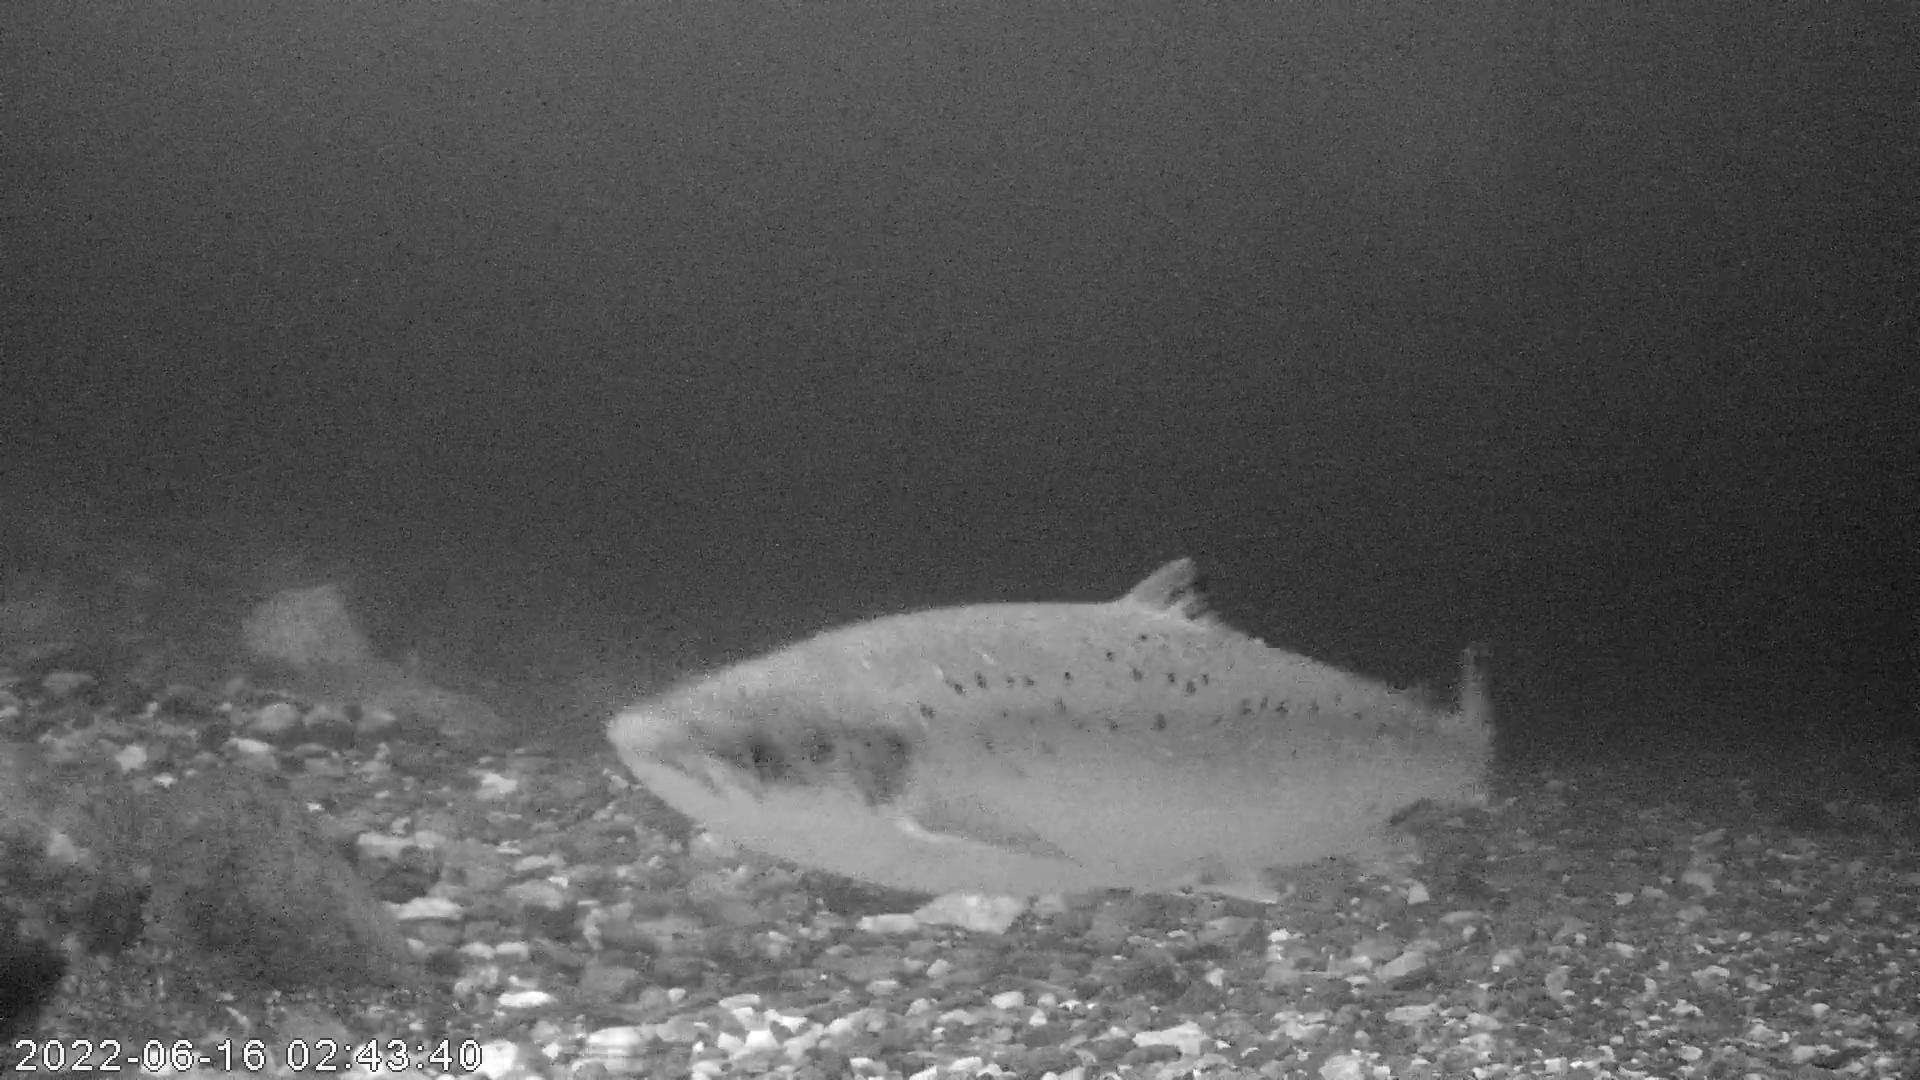salmon: (603, 550, 1499, 906)
